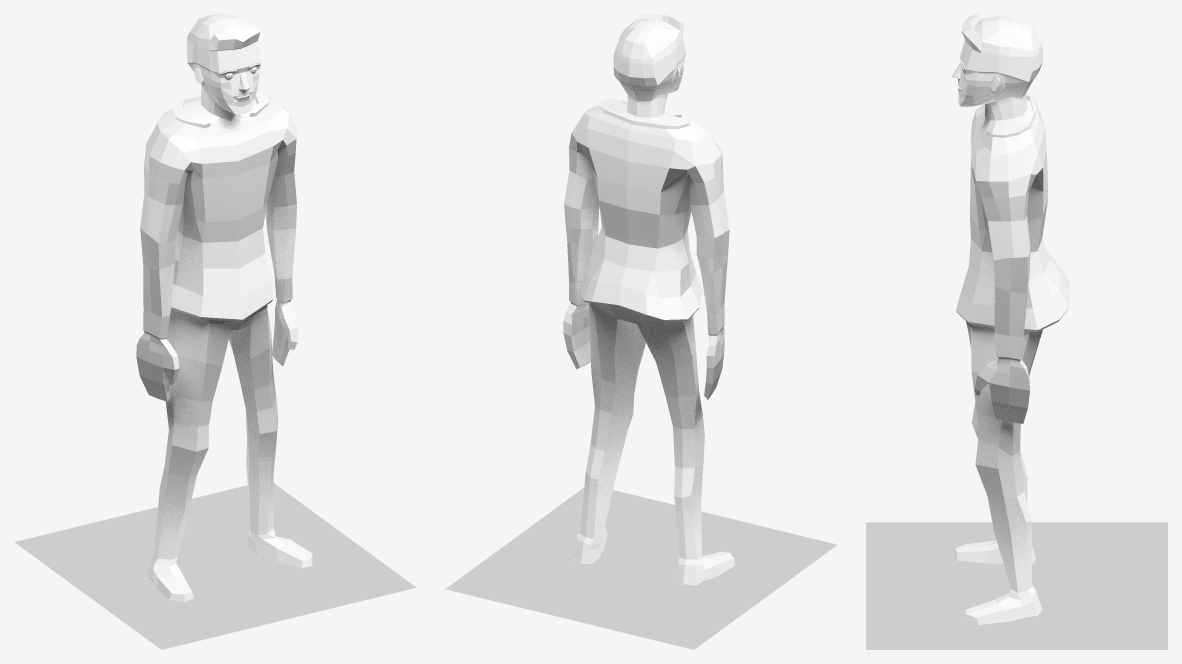
File: human.glb
The picture shows the model from 3 angles, left to right: view 1: azimuth 30°, elevation 25°; view 2: azimuth 150°, elevation 25°; view 3: azimuth 270°, elevation 25°; orthographic projection. The views are drawn at different scales.
Parts seen in each view (by area): view 1: Entity, Plane; view 2: Entity, Plane; view 3: Entity, Plane.
Part boxes in pixels (<box>): Entity: <box>136,14,312,601</box>; Plane: <box>14,483,416,649</box>; Entity: <box>563,14,734,585</box>; Plane: <box>445,487,837,649</box>; Entity: <box>952,14,1070,624</box>; Plane: <box>866,522,1167,649</box>.
Size of the model in its own units: 0.7346 by 1.52 by 0.7346.
1 material, 1 textured.
